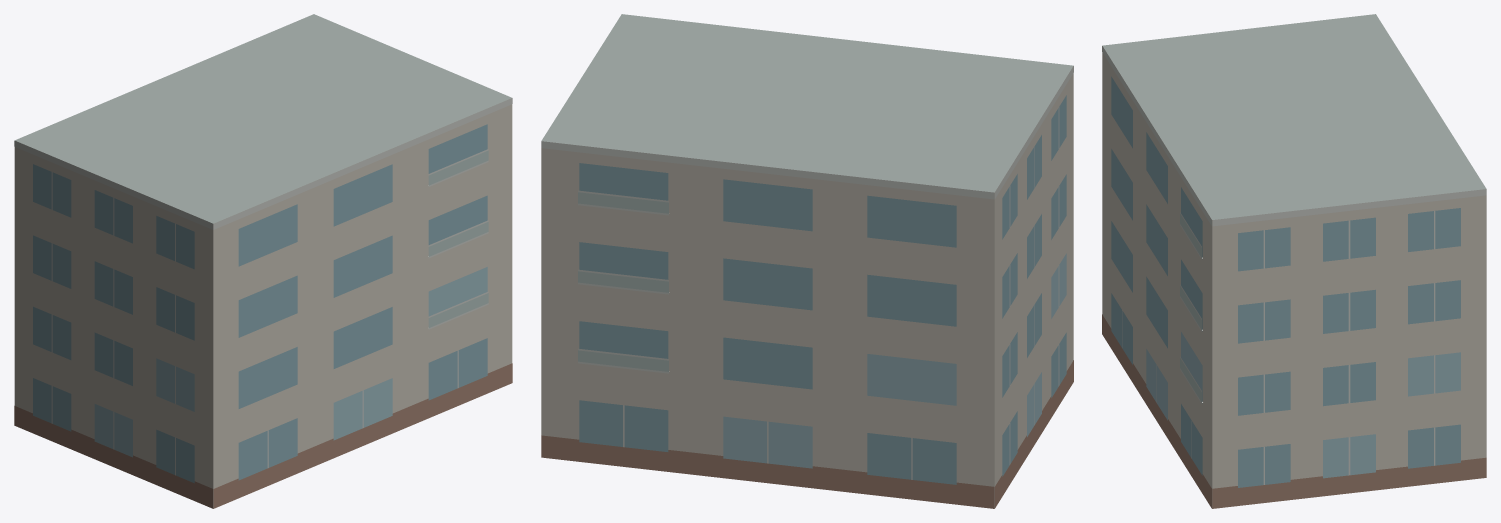
File: survey-upis-32687822.glb
3 renders of one model, left to right at view 1: azimuth 30°, elevation 25°; view 2: azimuth 150°, elevation 25°; view 3: azimuth 270°, elevation 25°, orthographic. The views are drawn at different scales.
Visible parts, largest first — view 1: survey-upis-32687822.tmp; view 2: survey-upis-32687822.tmp; view 3: survey-upis-32687822.tmp.
Part boxes in pixels (x1=…): survey-upis-32687822.tmp: x1=14, y1=14, x2=512, y2=508; survey-upis-32687822.tmp: x1=541, y1=14, x2=1073, y2=508; survey-upis-32687822.tmp: x1=1102, y1=14, x2=1486, y2=508.
Size of the model in its own units: 17 by 11.1 by 13.4.
